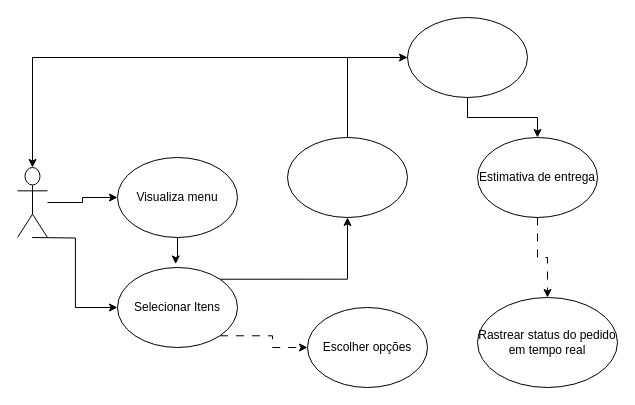
The diagram is 635 pixels wide and 405 high, and some of its shapes have lost their labels. The shapes that lost their labels are listed below. From the top down, each one's centre as x and y in pixels, then its label:
At (x=467, y=57): "Receber Notificação do pedido".
At (x=347, y=177): "Processar pagamentos online".
At (x=32, y=202): "Actor".
